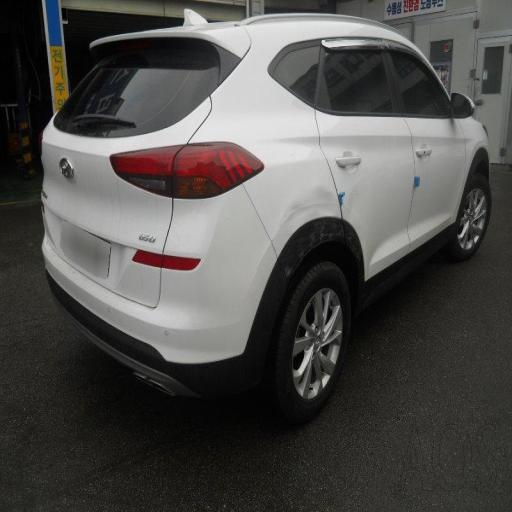dent: (235, 148, 363, 249)
